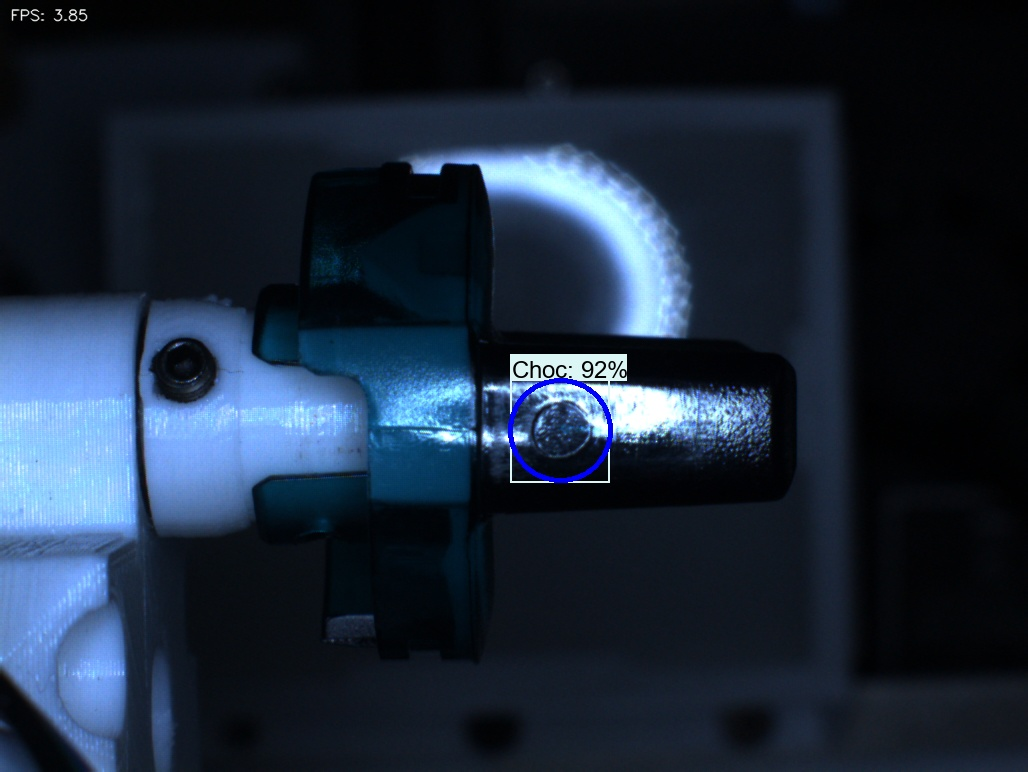DentOk: (331, 216, 407, 310)
